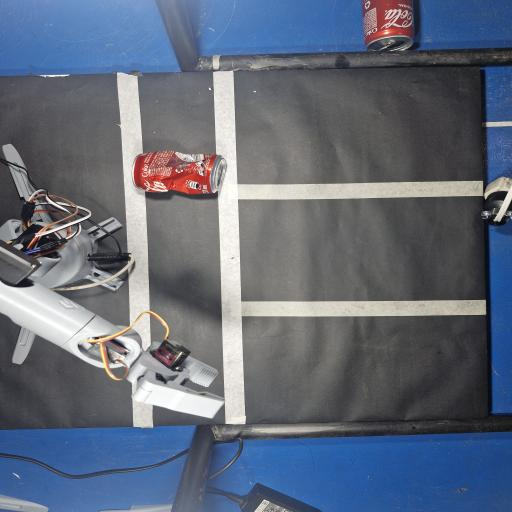lata_defectuoso: (132, 151, 225, 194)
